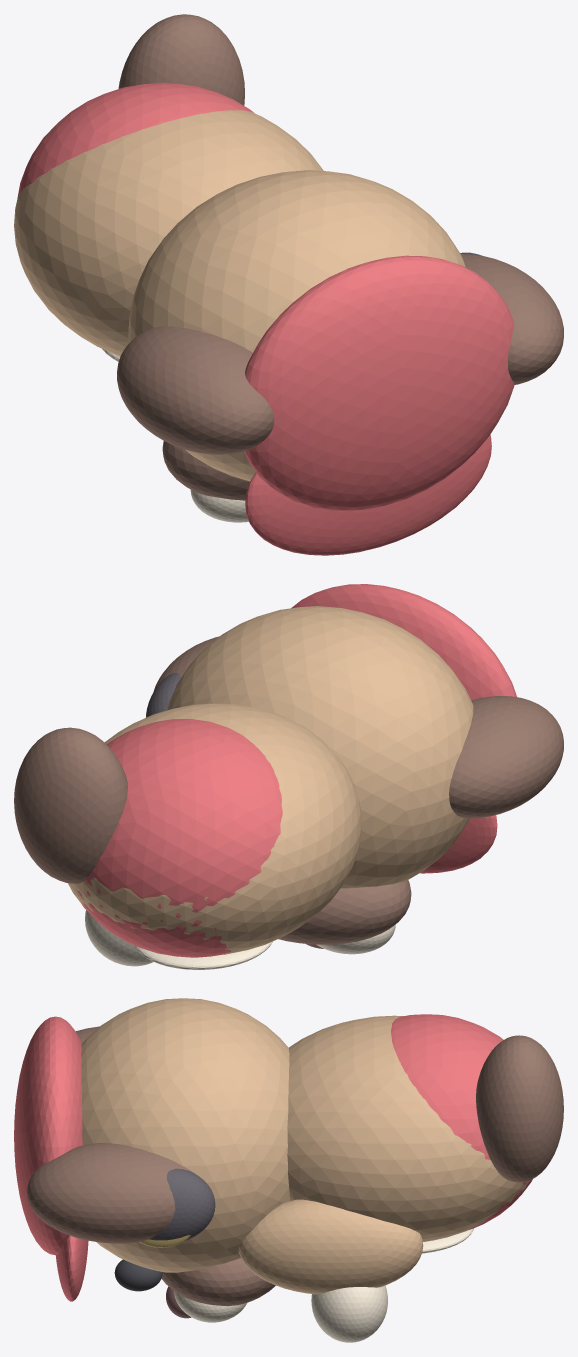
File: taco_v1.glb
The picture shows the model from 3 angles, top to bottom: view 1: azimuth 30°, elevation 25°; view 2: azimuth 150°, elevation 25°; view 3: azimuth 270°, elevation 25°; orthographic projection. The views are drawn at different scales.
Visible parts, largest first — view 1: Red_cap, Taco_head, Taco_body, Left_floppy_ear, Cap_brim, Racing_suit, Foot, Right_floppy_ear, Dark_muzzle, Left_muzzle_pad; view 2: Taco_head, Racing_suit, Taco_body, Foot, Left_floppy_ear, Red_cap, Dark_muzzle, Cap_brim, Belly_patch, Paw, Left_muzzle_pad, Headphone_cup (+1 smaller); view 3: Taco_head, Taco_body, Arm, Right_floppy_ear, Foot, Red_cap, Racing_suit, Paw, Dark_muzzle, Headphone_cup, Cap_brim, Right_muzzle_pad (+2 smaller).
Boxes of the visible parts, box(x1,y1,x2,y2) form: Red_cap: box(244, 255, 514, 511); Taco_head: box(128, 170, 465, 481); Taco_body: box(14, 110, 323, 356); Left_floppy_ear: box(117, 326, 274, 454); Cap_brim: box(245, 434, 491, 555); Racing_suit: box(17, 82, 253, 198); Foot: box(118, 14, 244, 105); Right_floppy_ear: box(461, 254, 563, 384); Dark_muzzle: box(162, 441, 250, 500); Left_muzzle_pad: box(190, 490, 248, 522); Taco_head: box(167, 606, 473, 888); Racing_suit: box(75, 719, 282, 957); Taco_body: box(68, 703, 361, 954); Foot: box(14, 727, 127, 883); Left_floppy_ear: box(449, 696, 563, 818); Red_cap: box(291, 584, 516, 700); Dark_muzzle: box(278, 880, 411, 944); Cap_brim: box(420, 815, 497, 873); Belly_patch: box(134, 941, 272, 969); Paw: box(85, 910, 153, 966); Left_muzzle_pad: box(316, 924, 395, 954); Headphone_cup: box(146, 673, 180, 717); Taco_head: box(81, 998, 290, 1272); Taco_body: box(287, 1015, 531, 1241); Arm: box(238, 1199, 423, 1294); Right_floppy_ear: box(26, 1143, 194, 1243); Foot: box(476, 1035, 563, 1182); Red_cap: box(14, 1016, 82, 1254); Racing_suit: box(391, 1014, 532, 1230); Paw: box(311, 1285, 387, 1342); Dark_muzzle: box(161, 1258, 275, 1306); Headphone_cup: box(149, 1168, 215, 1240); Cap_brim: box(55, 1235, 88, 1301); Right_muzzle_pad: box(174, 1291, 246, 1322).
Size of the model in its own units: 1.26 by 1.05 by 1.72.
